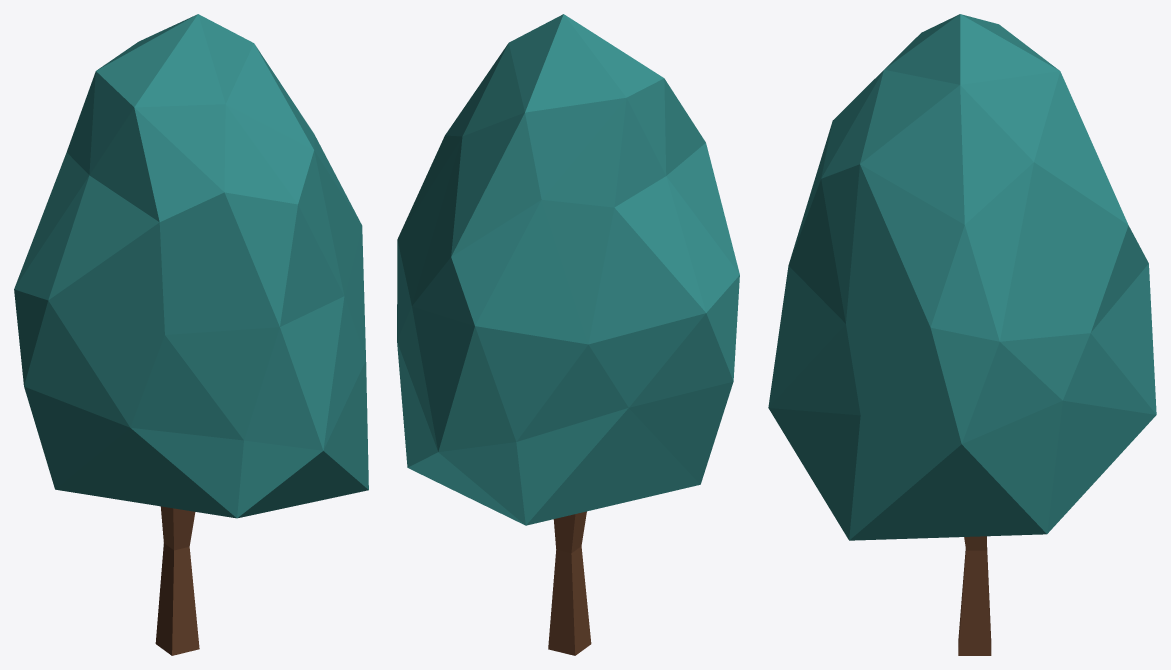
The model's file is Tree_56_Blue.fbx.
3 renders of one model, left to right at view 1: azimuth 30°, elevation 25°; view 2: azimuth 150°, elevation 25°; view 3: azimuth 270°, elevation 25°, orthographic. The views are drawn at different scales.
Parts seen in each view (by area): view 1: Tree_56_Blue_Part_1, Tree_56_Blue_Part_2; view 2: Tree_56_Blue_Part_1, Tree_56_Blue_Part_2; view 3: Tree_56_Blue_Part_1, Tree_56_Blue_Part_2.
Boxes of the visible parts, box(x1,y1,x2,y2) form: Tree_56_Blue_Part_1: box(14, 14, 368, 518); Tree_56_Blue_Part_2: box(155, 506, 199, 655); Tree_56_Blue_Part_1: box(397, 14, 739, 525); Tree_56_Blue_Part_2: box(548, 511, 591, 655); Tree_56_Blue_Part_1: box(768, 14, 1156, 540); Tree_56_Blue_Part_2: box(958, 536, 991, 655).
Bounding box in the file's own units: 336 × 599 × 329.
